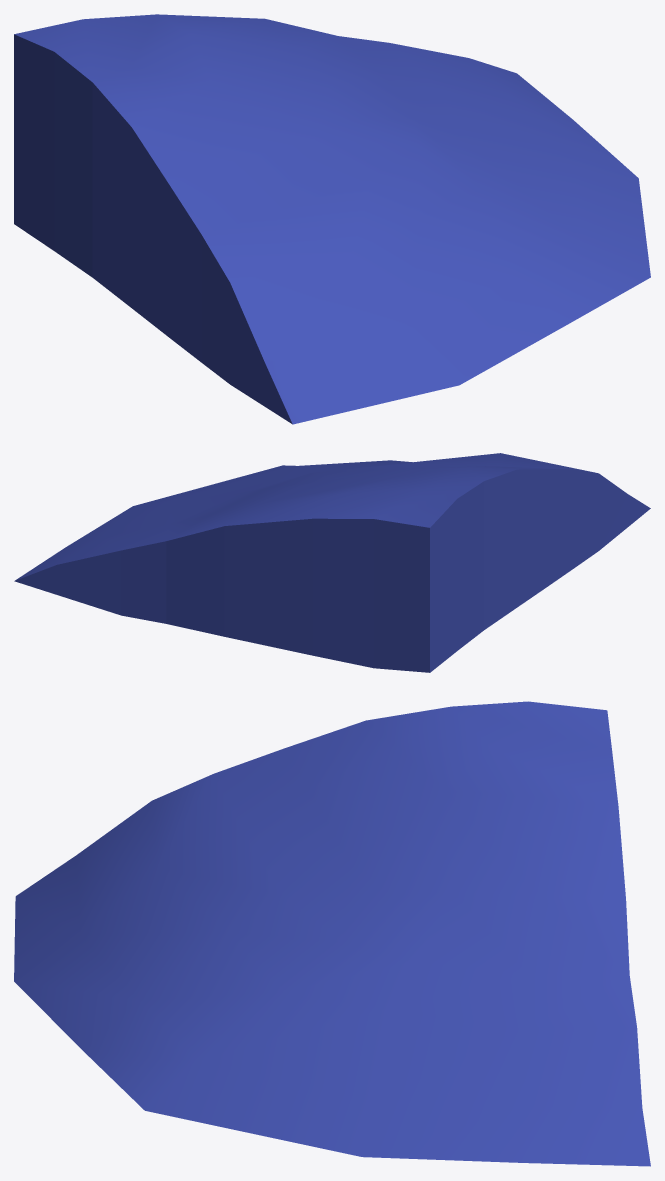
The model's file is Rubble_05A_Lod0.fbx.
The picture shows the model from 3 angles, top to bottom: view 1: azimuth 30°, elevation 25°; view 2: azimuth 150°, elevation 25°; view 3: azimuth 270°, elevation 25°; orthographic projection. The views are drawn at different scales.
Parts seen in each view (by area): view 1: Rubble_05A_Lod0; view 2: Rubble_05A_Lod0; view 3: Rubble_05A_Lod0.
Boxes of the visible parts, x1,y1,x2,y2 form: Rubble_05A_Lod0: (14,14,650,424); Rubble_05A_Lod0: (14,453,650,672); Rubble_05A_Lod0: (14,701,650,1166).
Bounding box in the file's own units: 130 × 49.08 × 130.
